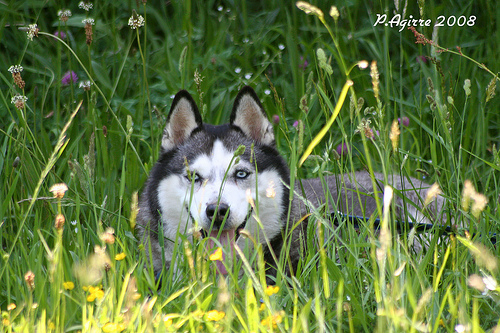dog: (129, 82, 467, 296)
